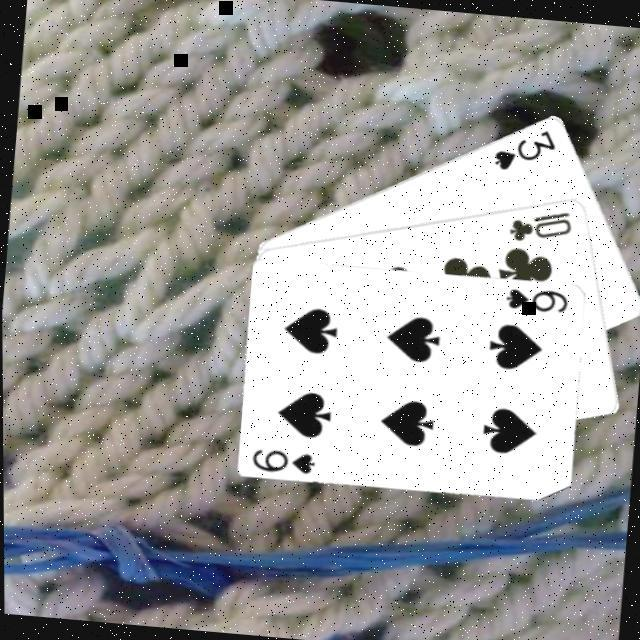10C: (503, 202, 575, 248)
3S: (488, 122, 558, 178)
6S: (246, 443, 316, 478), (500, 282, 570, 316)
